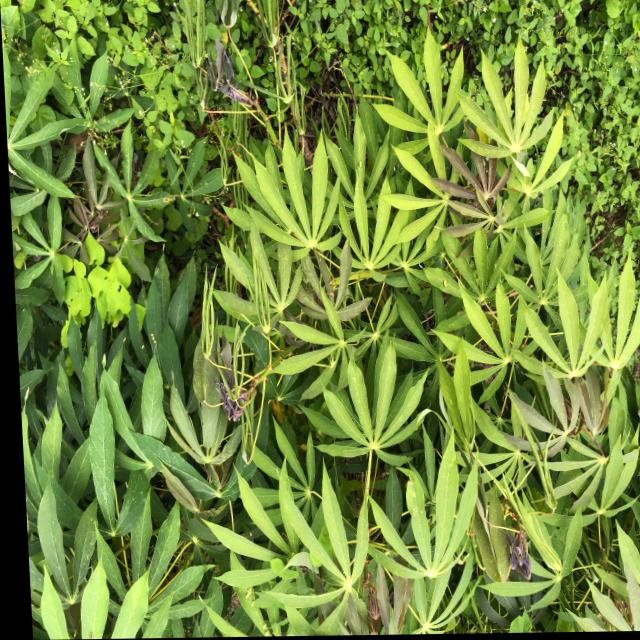Maleza: (38, 0, 603, 52), (201, 0, 390, 82), (129, 0, 245, 125), (580, 0, 640, 235), (40, 243, 164, 329)
Mosca: (146, 332, 167, 349), (239, 524, 255, 542), (440, 275, 450, 294)
